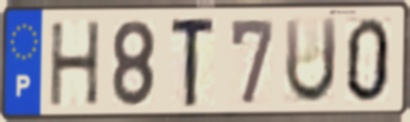0: (344, 15, 394, 106)
7: (227, 17, 276, 107)
8: (110, 17, 158, 109)
H: (47, 18, 103, 110)
T: (168, 14, 218, 111)
U: (282, 14, 340, 108)
